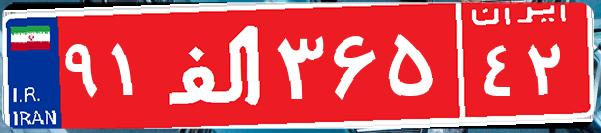1: (110, 28, 158, 105)
2: (525, 38, 570, 115)
3: (273, 28, 330, 110)
4: (475, 38, 525, 113)
5: (385, 28, 445, 110)
6: (330, 28, 385, 110)
9: (57, 26, 110, 107)
الف: (158, 15, 273, 115)
